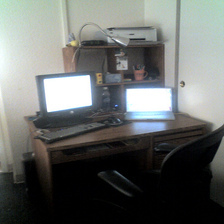laptop: (119, 76, 181, 131)
